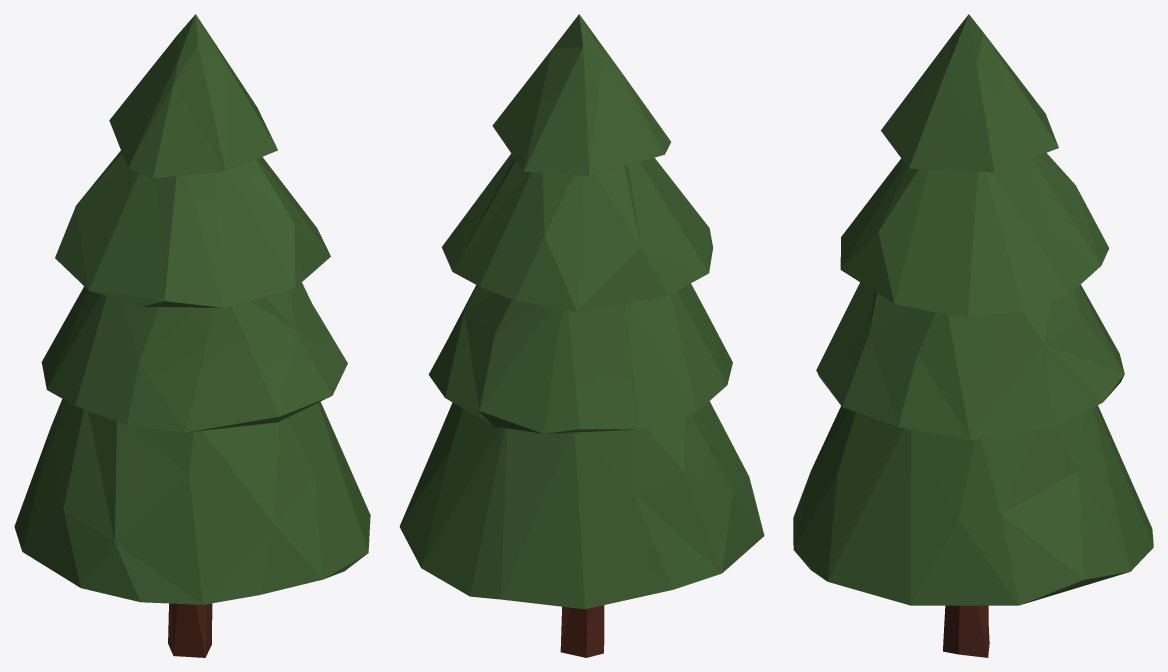
File: Spruce.fbx
3 views of the same model, side by side, from view 1: azimuth 30°, elevation 25°; view 2: azimuth 150°, elevation 25°; view 3: azimuth 270°, elevation 25° (orthographic).
Parts seen in each view (by area): view 1: Spruce; view 2: Spruce; view 3: Spruce.
Part boxes in pixels (box(x1,y1,x2,y2)): Spruce: box(14, 14, 370, 657); Spruce: box(399, 14, 764, 657); Spruce: box(793, 14, 1153, 657).
Size of the model in its own units: 2.95 by 5.86 by 2.99.
